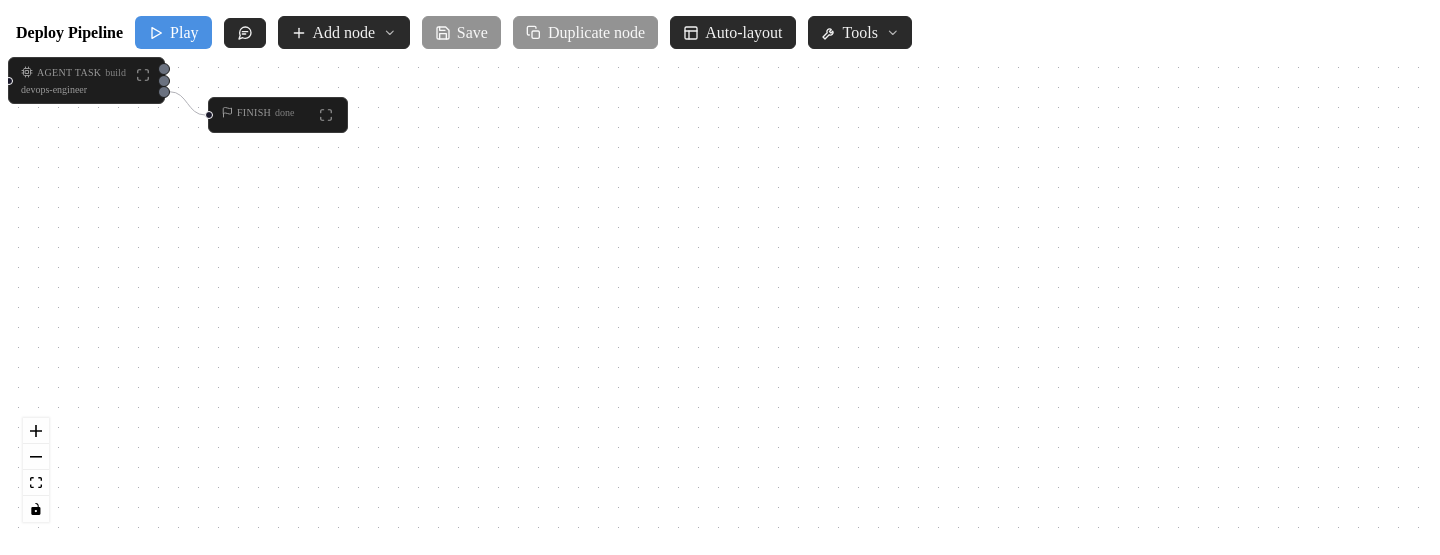
it: FlowEditor playback › locks editing actions while the run plays
Click the button "Play" at (173, 33), box x1=135 y1=16 x2=212 y2=49
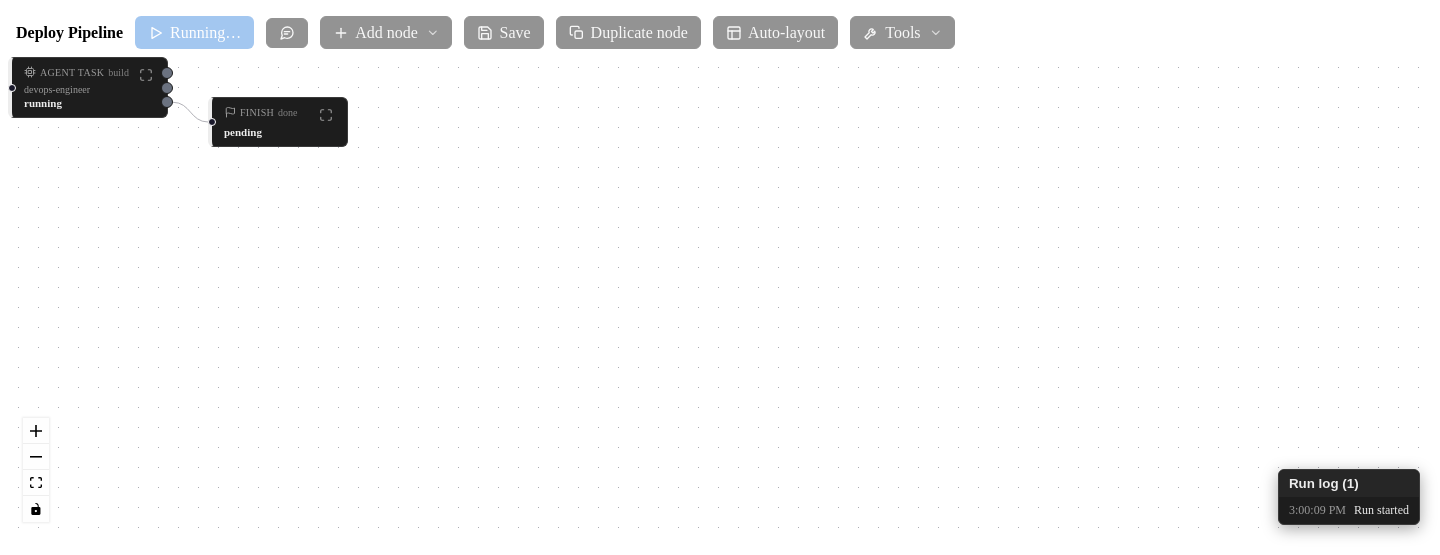
Expected: the button "Running…" is disabled, x1=135 y1=16 x2=254 y2=49
Expected: the button "Add node" is disabled, x1=320 y1=16 x2=452 y2=49
Expected: the button "Auto-layout" is disabled, x1=713 y1=16 x2=838 y2=49
